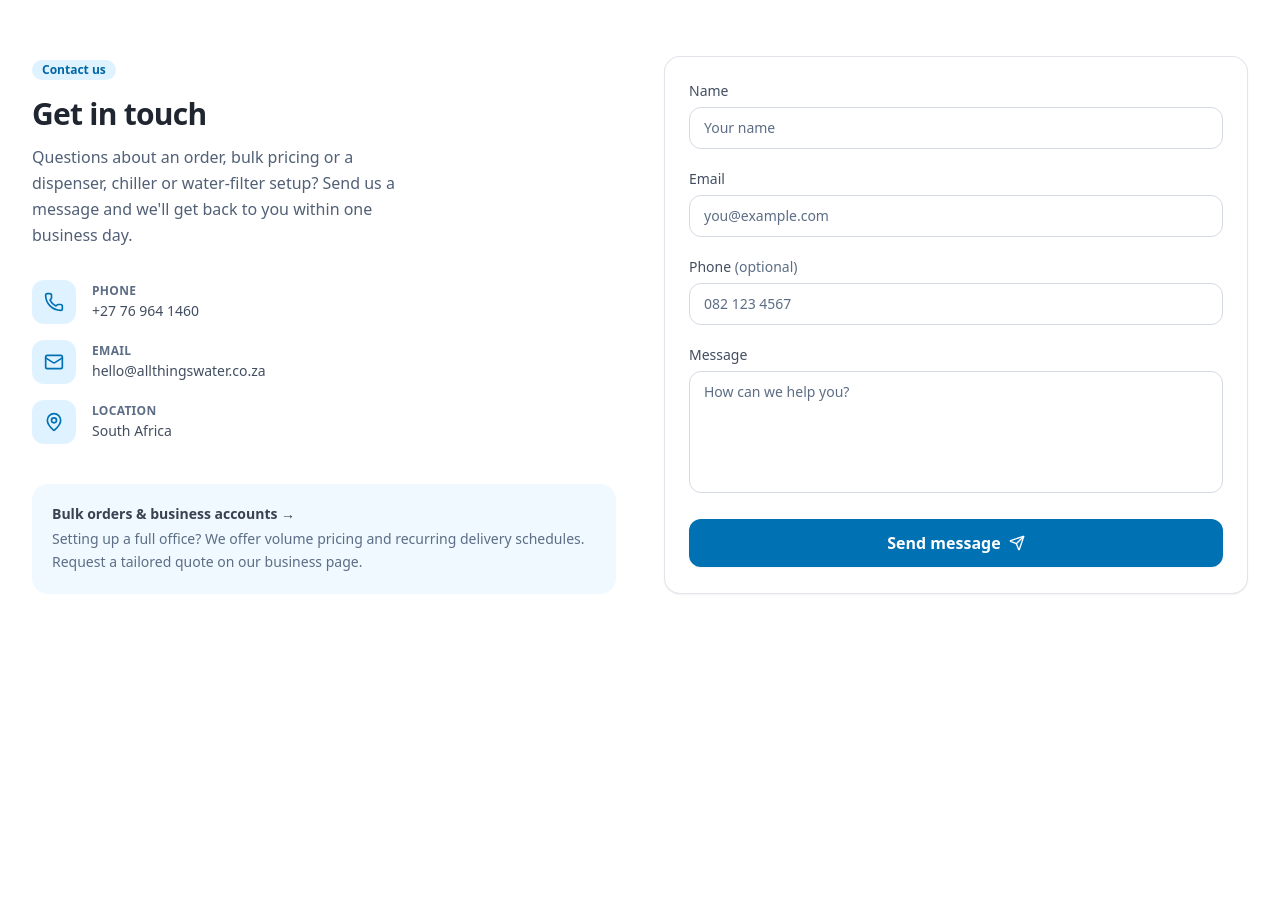
Scenario: Contact › shows an unavailable message instead of false success when no endpoint is configured
Type "Jane Doe" into the field labelled "Name" at (956,128), box [689,107,1223,149]
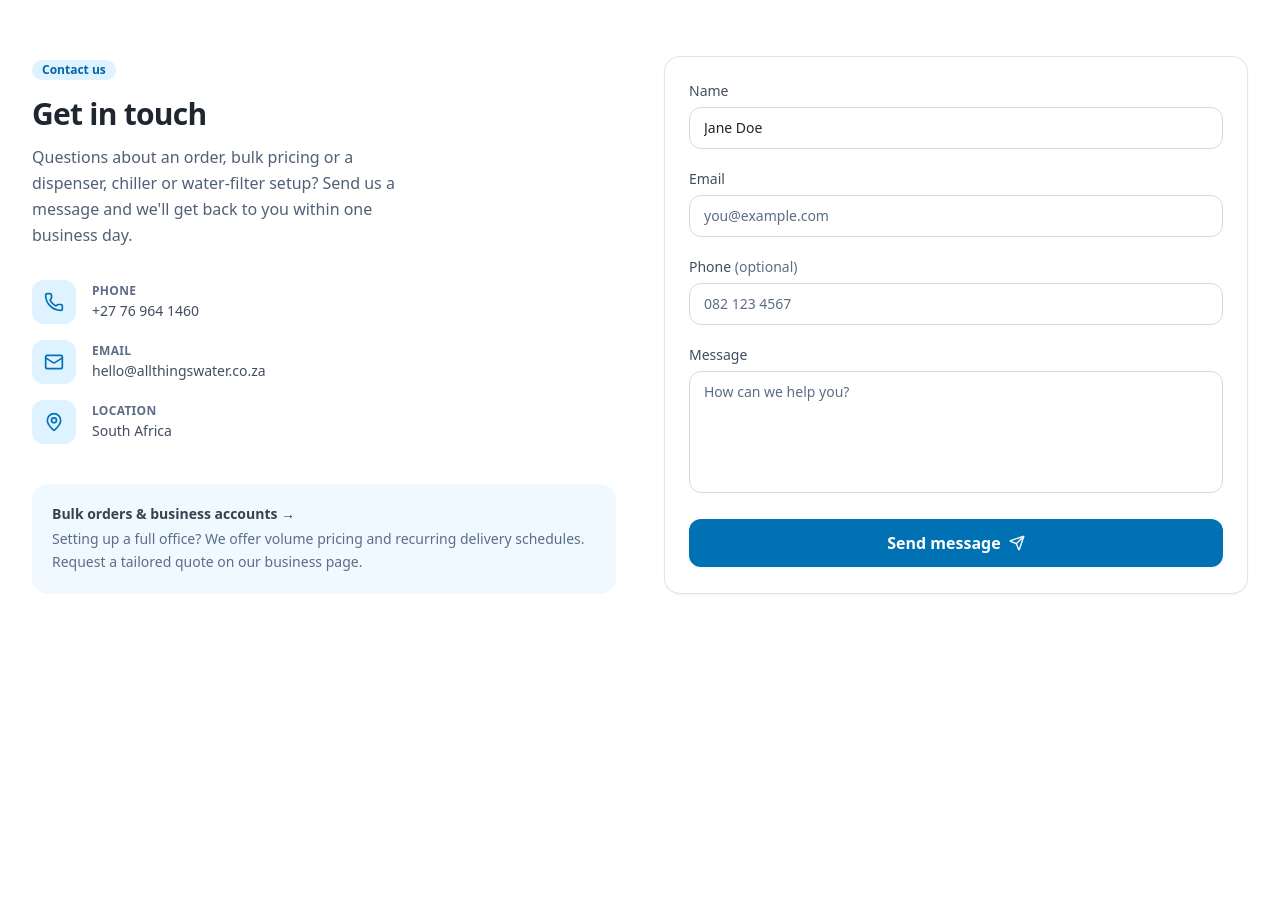
Type "jane@example.com" into the field labelled "Email" at (956,216), box [689,195,1223,237]
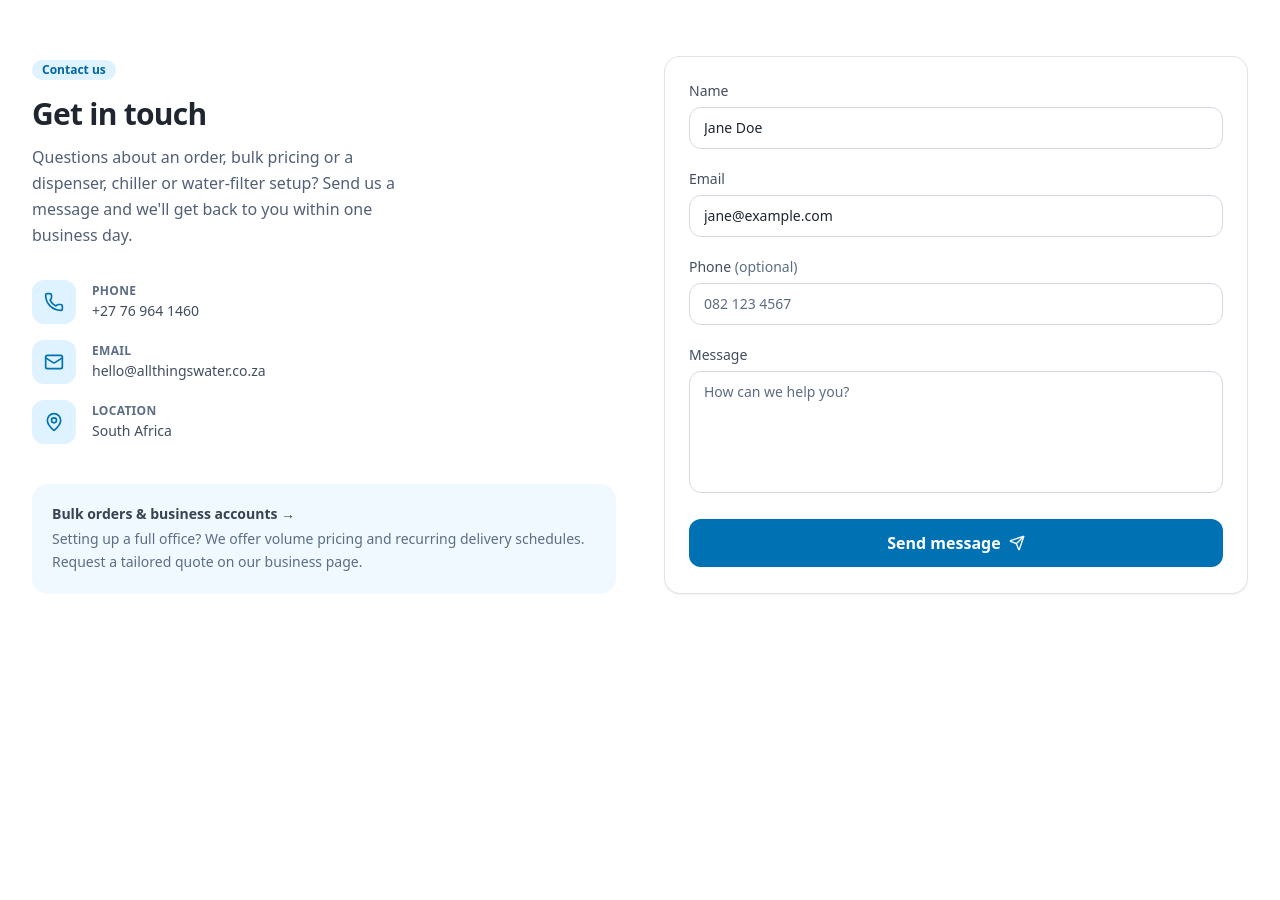
Type "Need help with a dispenser." into the text box labelled "Message" at (956,432), box [689,371,1223,493]
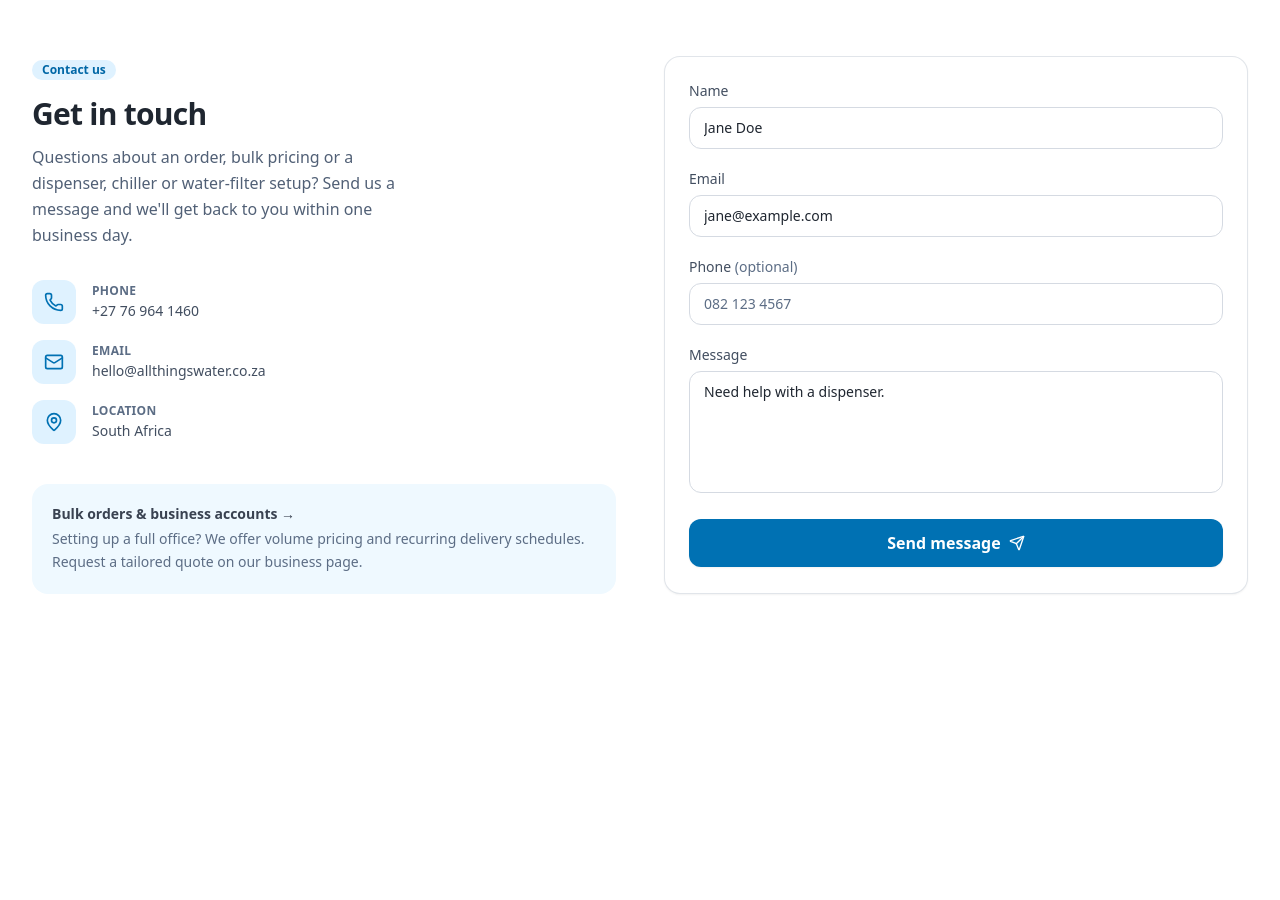
Click the button "Send message" at (956,543), box [689,519,1223,567]
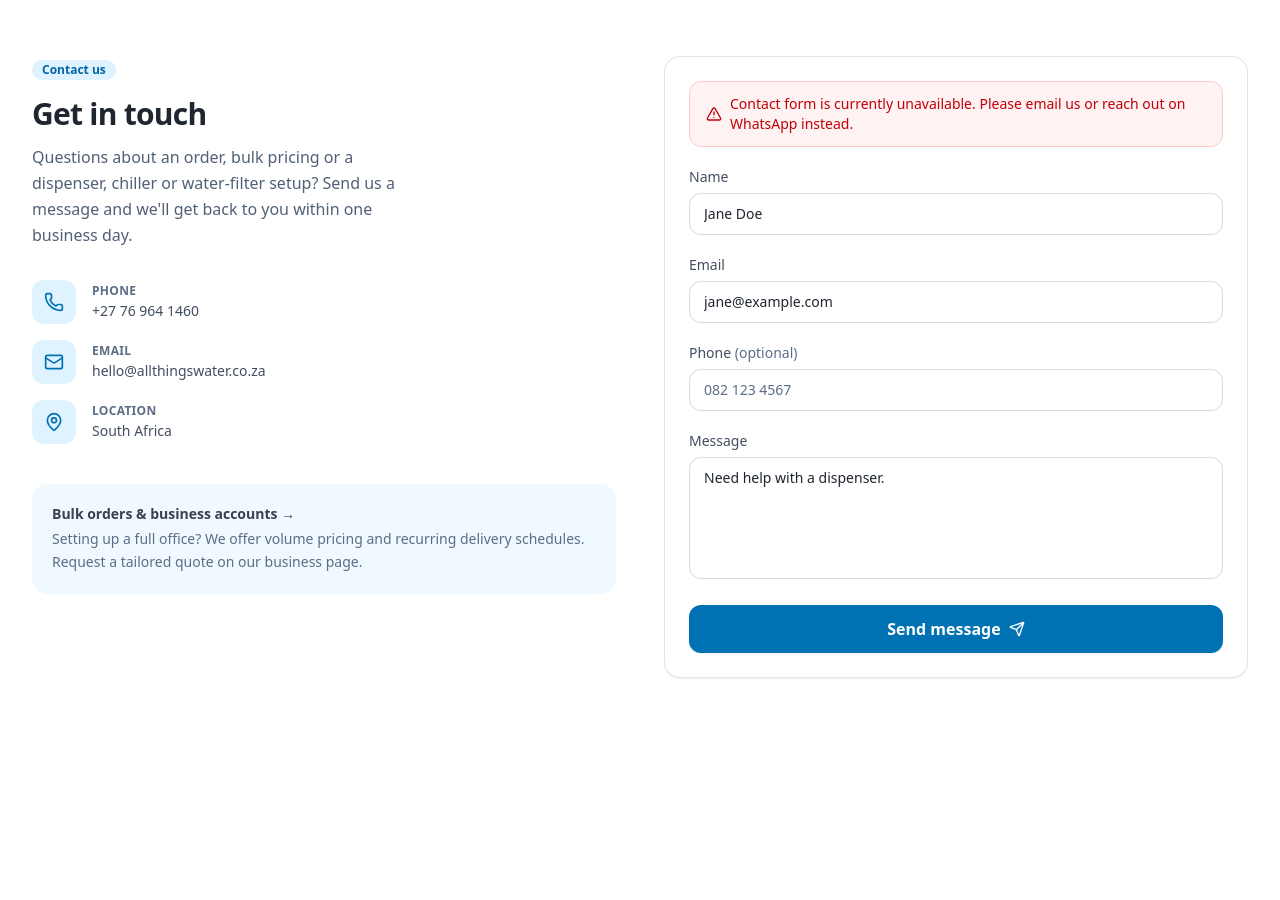
Expected: the message shows "Contact form is currently unavailable", [730,94,1185,133]
